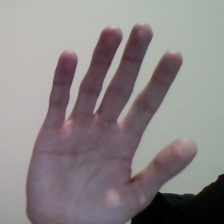left: (16, 15, 201, 224)
